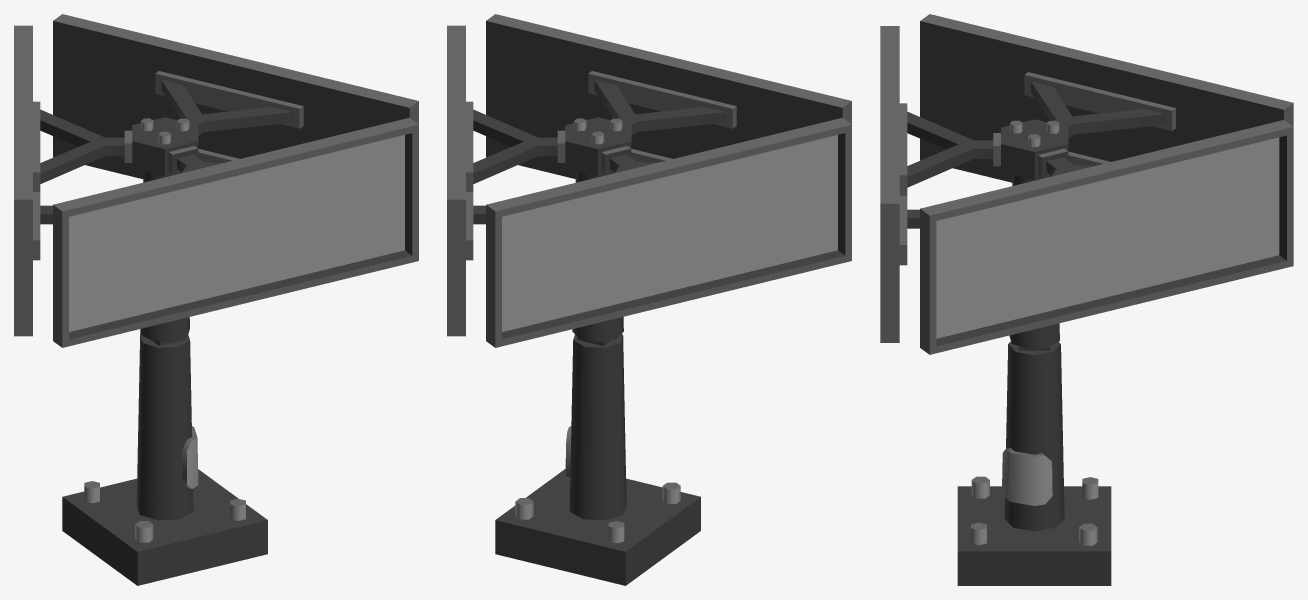
File: Billboard_2B.fbx
3 views of the same model, side by side, from view 1: azimuth 30°, elevation 25°; view 2: azimuth 150°, elevation 25°; view 3: azimuth 270°, elevation 25° (orthographic). The views are drawn at different scales.
Visible parts, largest first — view 1: Rotating_Billboard_2B, Billboard_Base_2B; view 2: Rotating_Billboard_2B, Billboard_Base_2B; view 3: Rotating_Billboard_2B, Billboard_Base_2B.
Boxes of the visible parts, box(x1,y1,x2,y2) form: Rotating_Billboard_2B: box(14, 14, 418, 347); Billboard_Base_2B: box(62, 334, 267, 585); Rotating_Billboard_2B: box(447, 14, 851, 347); Billboard_Base_2B: box(495, 334, 700, 585); Rotating_Billboard_2B: box(880, 14, 1293, 354); Billboard_Base_2B: box(957, 341, 1111, 585).
Size of the model in its own units: 621 by 630 by 538.
